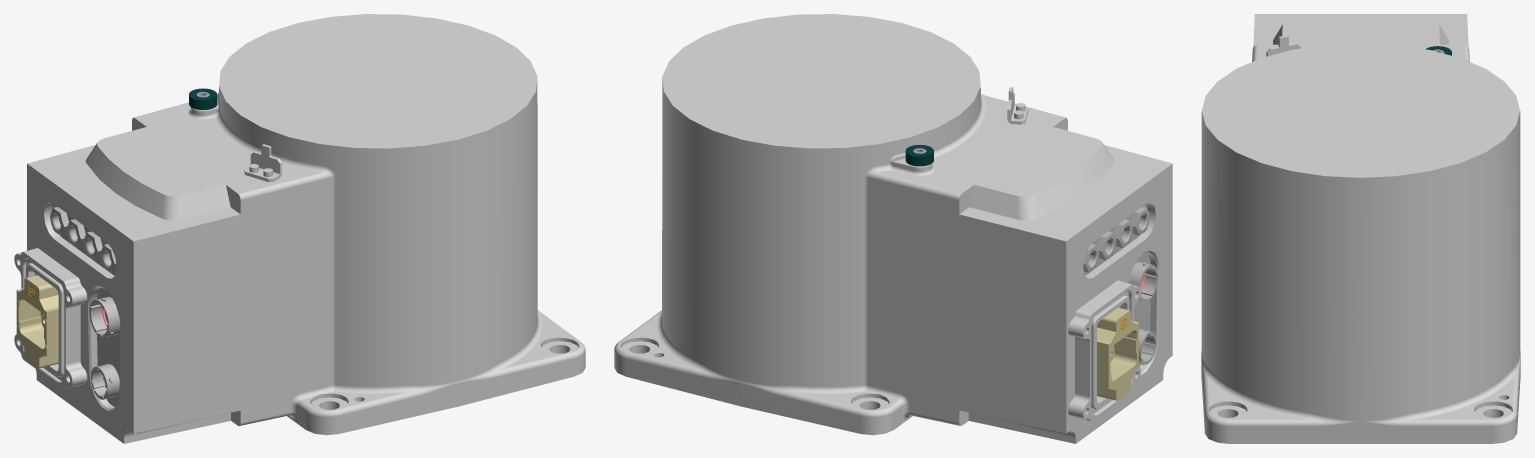
3 views of the same model, side by side, from view 1: azimuth 30°, elevation 25°; view 2: azimuth 150°, elevation 25°; view 3: azimuth 270°, elevation 25° (orthographic).
Parts seen in each view (by area): view 1: link_0; view 2: link_0; view 3: link_0.
Boxes of the visible parts, x1,y1,x2,y2 form: link_0: (14, 14, 585, 443); link_0: (614, 14, 1172, 443); link_0: (1201, 14, 1520, 443).
Size of the model in its own units: 0.3012 by 0.1805 by 0.1663.
